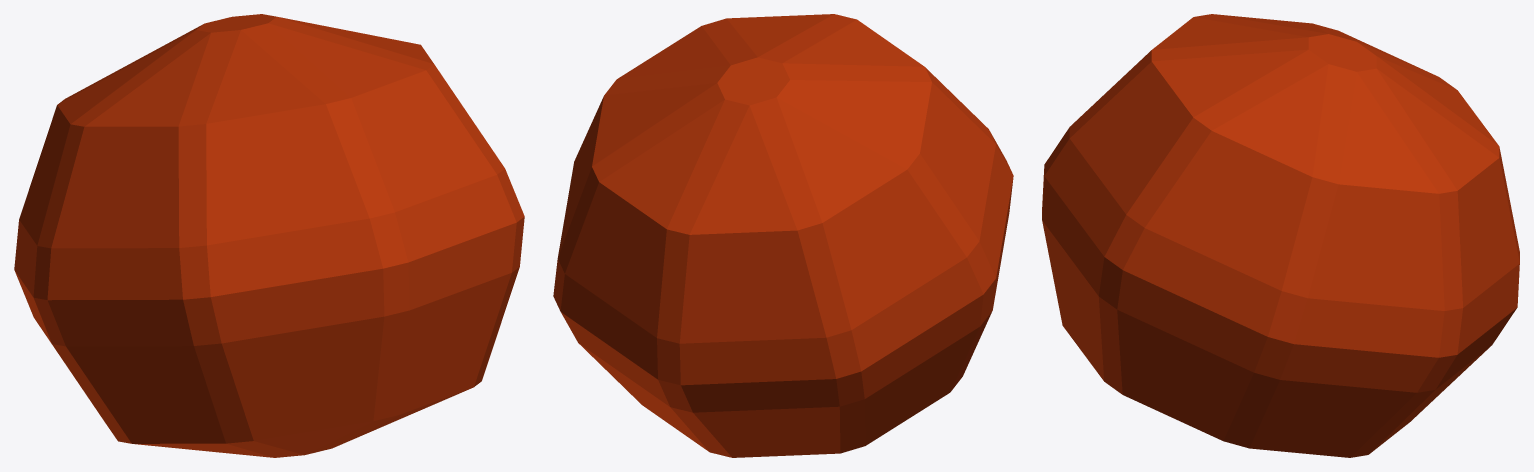
Rendered from M_Pumpkin_low.FBX.
3 views of the same model, side by side, from view 1: azimuth 30°, elevation 25°; view 2: azimuth 150°, elevation 25°; view 3: azimuth 270°, elevation 25° (orthographic). The views are drawn at different scales.
Parts seen in each view (by area): view 1: Sphere015; view 2: Sphere015; view 3: Sphere015.
Part boxes in pixels (bbox=[...]): Sphere015: bbox=[14, 14, 524, 457]; Sphere015: bbox=[553, 14, 1013, 457]; Sphere015: bbox=[1042, 14, 1519, 457].
Size of the model in its own units: 0.5336 by 0.444 by 0.5153.
